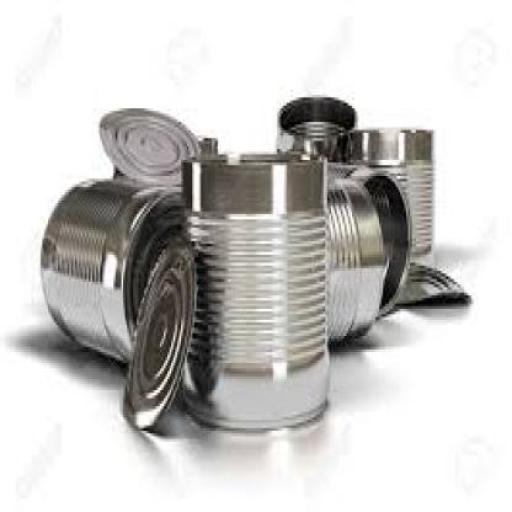metal: (181, 155, 327, 433), (36, 174, 183, 374), (124, 236, 190, 434), (346, 124, 432, 271), (327, 162, 410, 314), (327, 165, 383, 352), (114, 136, 217, 225), (98, 106, 200, 187), (273, 95, 356, 176), (402, 260, 468, 306)
